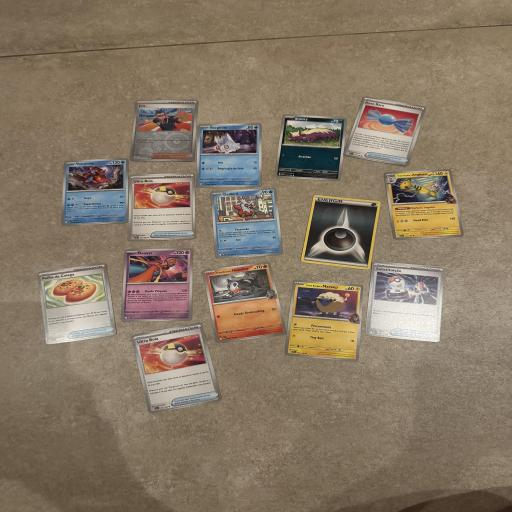card: (131, 319, 223, 417), (201, 256, 287, 349), (284, 278, 367, 362), (365, 260, 447, 343), (36, 262, 117, 345), (343, 94, 427, 168), (300, 194, 381, 270), (384, 168, 464, 241), (120, 247, 194, 322), (210, 187, 284, 259), (274, 113, 347, 182), (59, 158, 131, 226), (126, 173, 196, 241), (195, 123, 263, 188), (129, 99, 199, 162)
